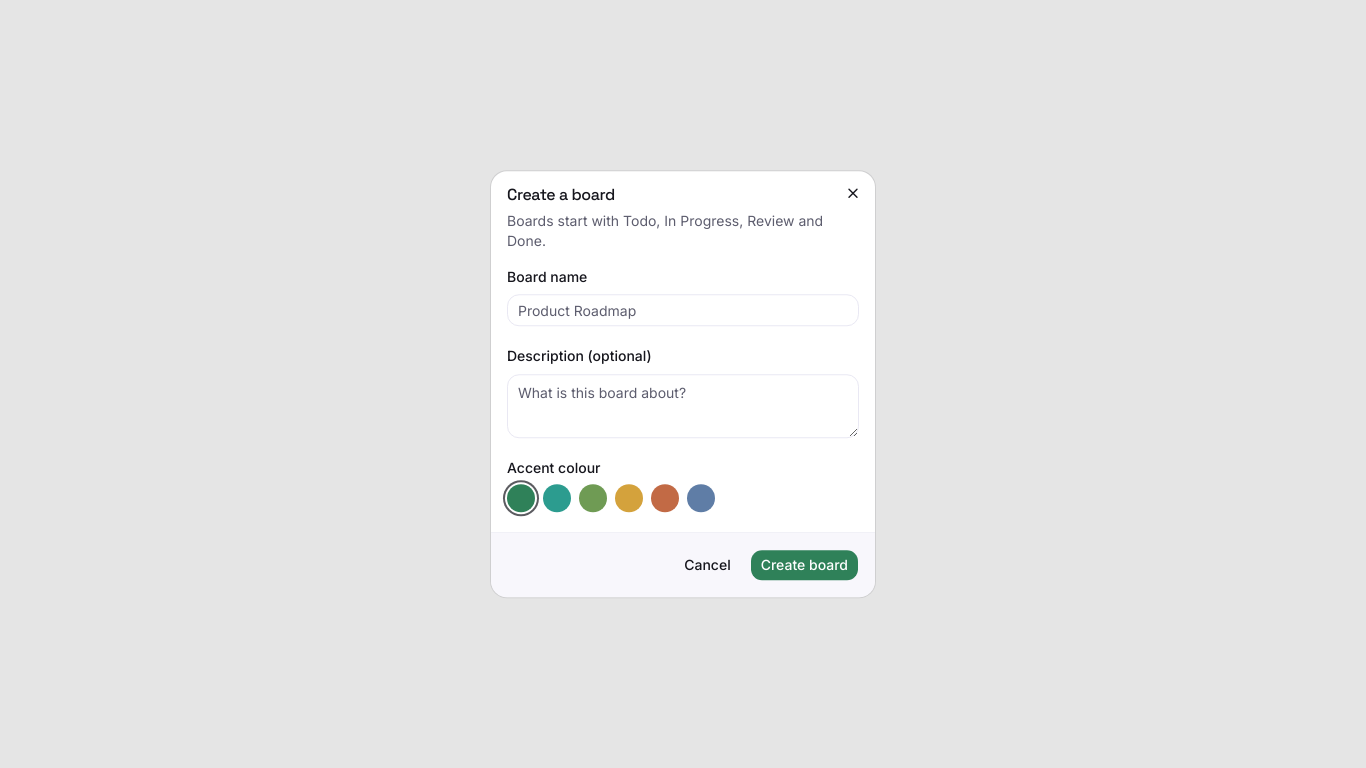
Test: CreateBoardDialog › will not create a board without a name, and says why
The image size is (1366, 768).
Click the button "Create board" at [804, 565], box 750,549 -> 859,581
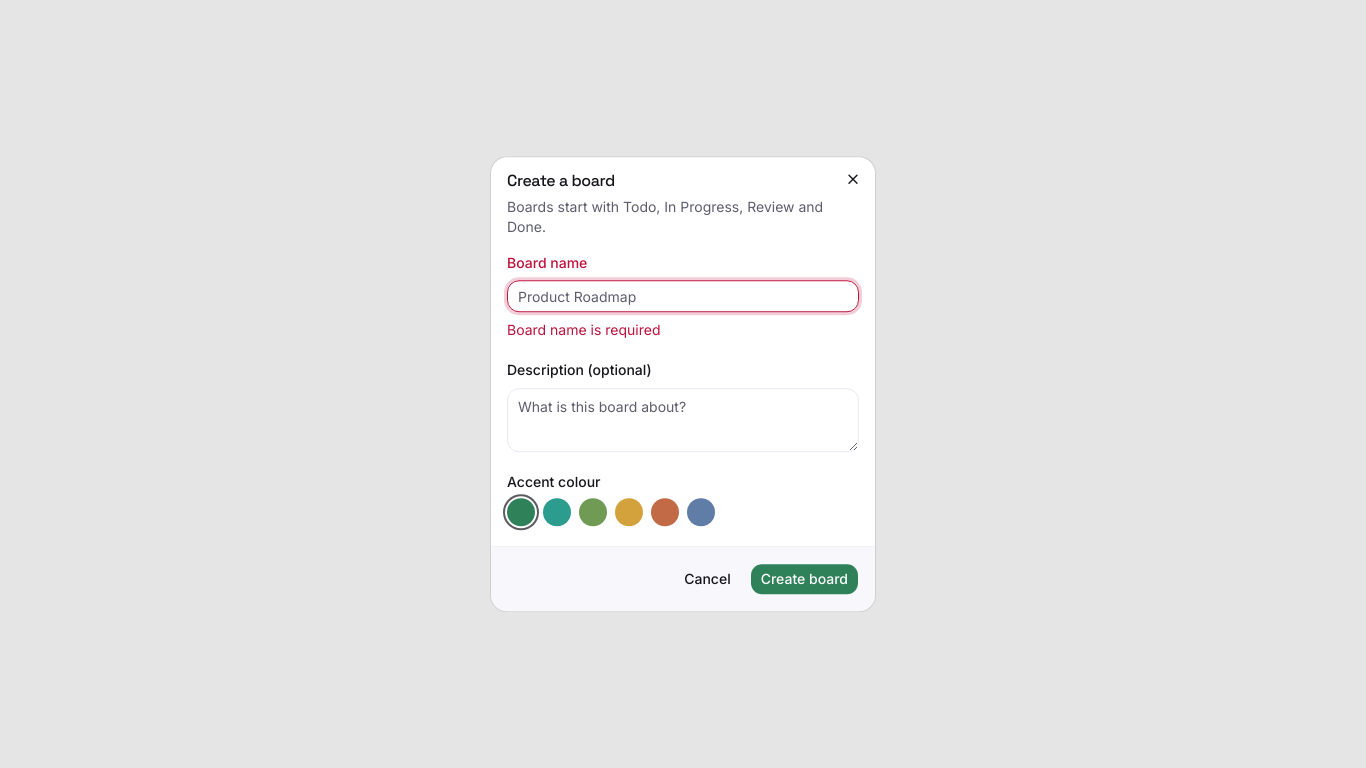
Result: the message reads "Board name is required" at 507,322 -> 660,338
